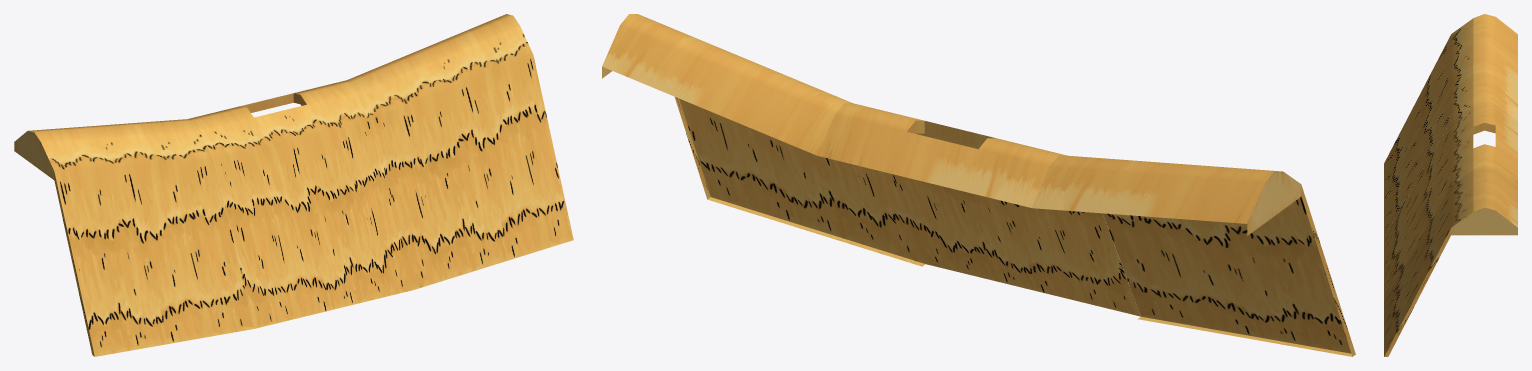
The model's file is New Roof.fbx.
3 views of the same model, side by side, from view 1: azimuth 30°, elevation 25°; view 2: azimuth 150°, elevation 25°; view 3: azimuth 270°, elevation 25° (orthographic). The views are drawn at different scales.
Visible parts, largest first — view 1: polySurface81, polySurface83, polySurface84; view 2: polySurface83, polySurface81, polySurface84; view 3: polySurface83, polySurface84, polySurface81.
Part boxes in pixels (x1,y1,x2,y2): polySurface81: (347, 14, 573, 289); polySurface83: (14, 119, 254, 356); polySurface84: (187, 80, 413, 328); polySurface83: (1032, 155, 1355, 356); polySurface81: (602, 14, 925, 266); polySurface84: (817, 103, 1140, 316); polySurface83: (1384, 14, 1517, 236); polySurface84: (1384, 101, 1517, 300); polySurface81: (1384, 165, 1517, 356).
Size of the model in its own units: 108 by 41.02 by 31.4.
Materials: 1 (1 with a texture image).
